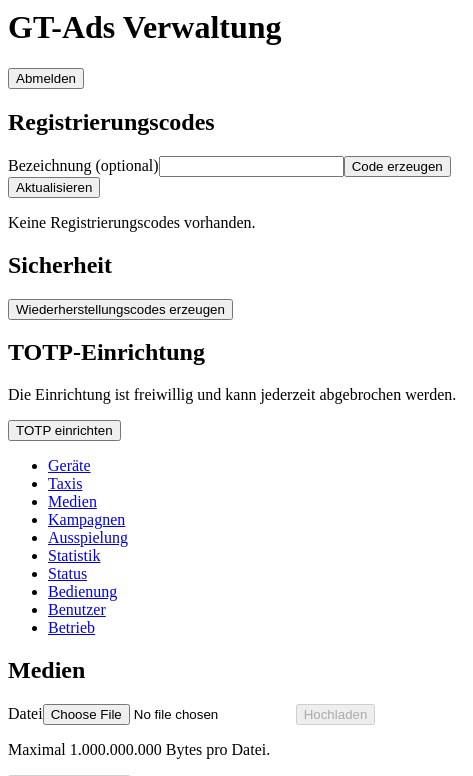
Scenario: CX-039 Medienseite › zeigt die Medienseite nur mit Sitzung und verwirft nach Abmeldung Daten und spaete Antworten
Later steps or results of the test are not shown.
Expected: the heading "Medien" is shown, x1=8 y1=657 x2=85 y2=683
Click the button "Abmelden". click: (46, 78)
box: x1=8 y1=68 x2=84 y2=89
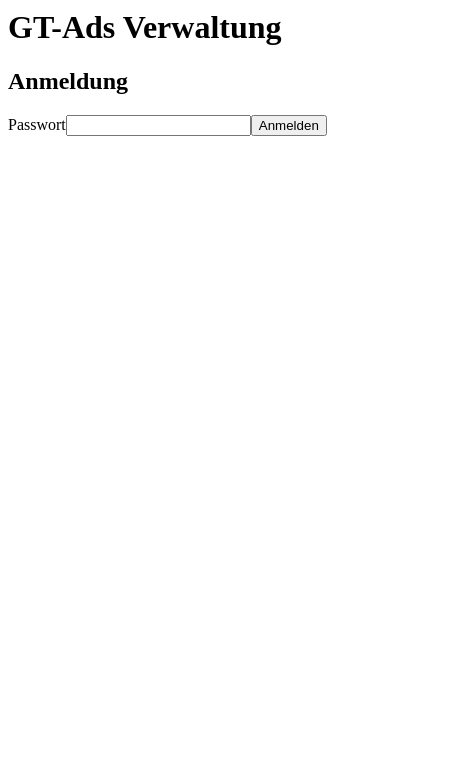
Result: the link "Medien" is gone
Result: the heading "Anmeldung" is shown at x1=8 y1=68 x2=128 y2=94
